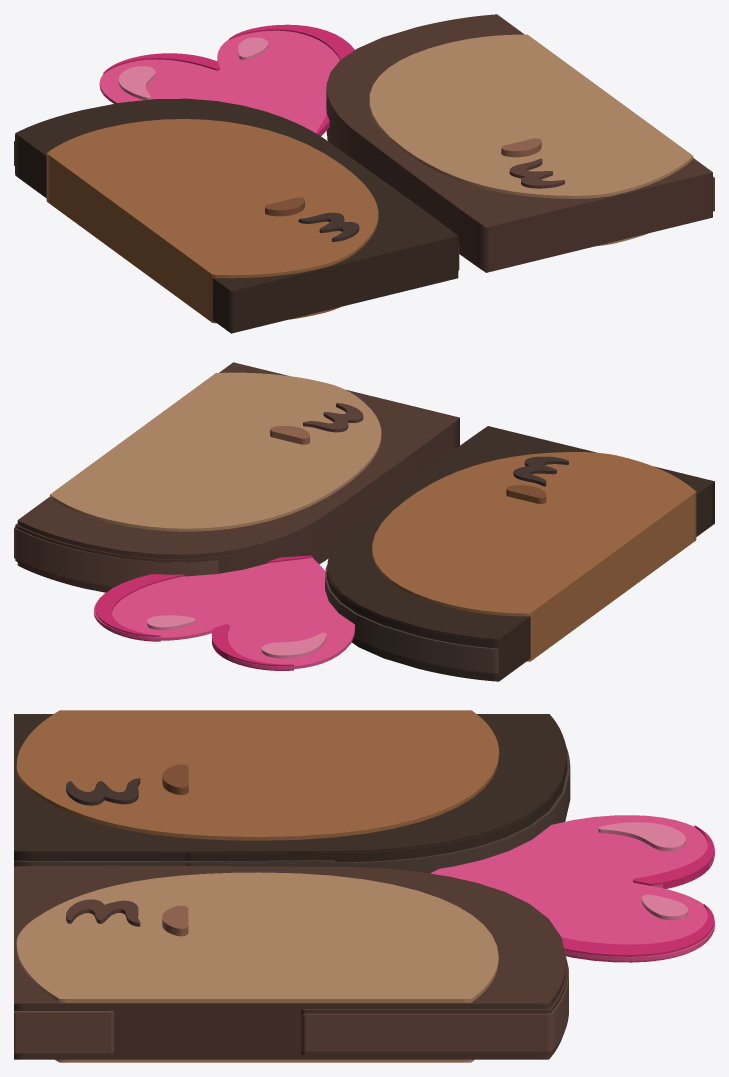
File: emoji_u1f469_1f3fe_200d_2764_200d_1f48b_200d_1f469_1f3fd.glb
3 views of the same model, one above another, from view 1: azimuth 30°, elevation 25°; view 2: azimuth 150°, elevation 25°; view 3: azimuth 270°, elevation 25° (orthographic). The views are drawn at different scales.
Visible parts, largest first — view 1: emoji_u1f469_1f3fe_200d_2764_200d_1f48b_200d_1f469_1f3fd; view 2: emoji_u1f469_1f3fe_200d_2764_200d_1f48b_200d_1f469_1f3fd; view 3: emoji_u1f469_1f3fe_200d_2764_200d_1f48b_200d_1f469_1f3fd.
Boxes of the visible parts, <box> form: emoji_u1f469_1f3fe_200d_2764_200d_1f48b_200d_1f469_1f3fd: <box>14,14,714,333</box>; emoji_u1f469_1f3fe_200d_2764_200d_1f48b_200d_1f469_1f3fd: <box>14,362,714,681</box>; emoji_u1f469_1f3fe_200d_2764_200d_1f48b_200d_1f469_1f3fd: <box>14,710,714,1062</box>.
Size of the model in its own units: 0.0336 by 0.0042 by 0.0339.
